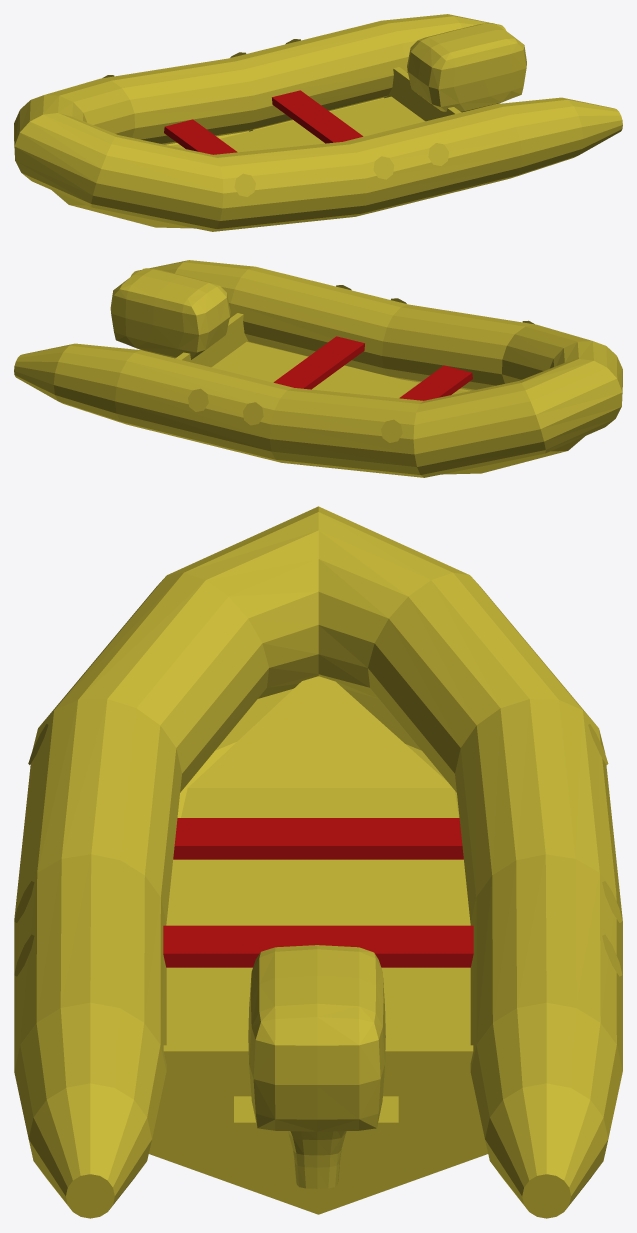
The model's file is raft3.obj.
3 views of the same model, one above another, from view 1: azimuth 30°, elevation 25°; view 2: azimuth 150°, elevation 25°; view 3: azimuth 270°, elevation 25° (orthographic). The views are drawn at different scales.
Size of the model in its own units: 4.12 by 1.15 by 1.99.
